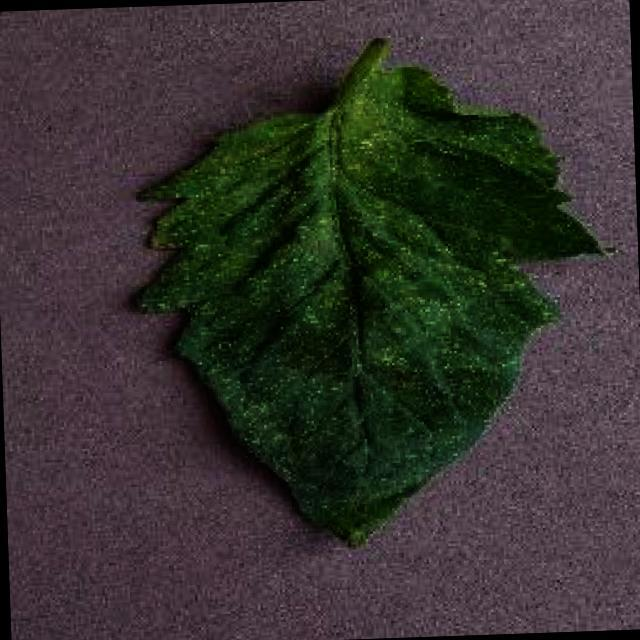Tomato spider mites leaf: (125, 59, 612, 560)
